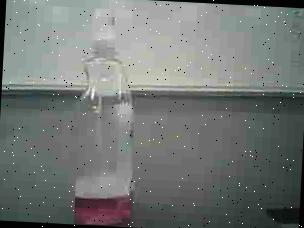hazard: (60, 0, 157, 227)
